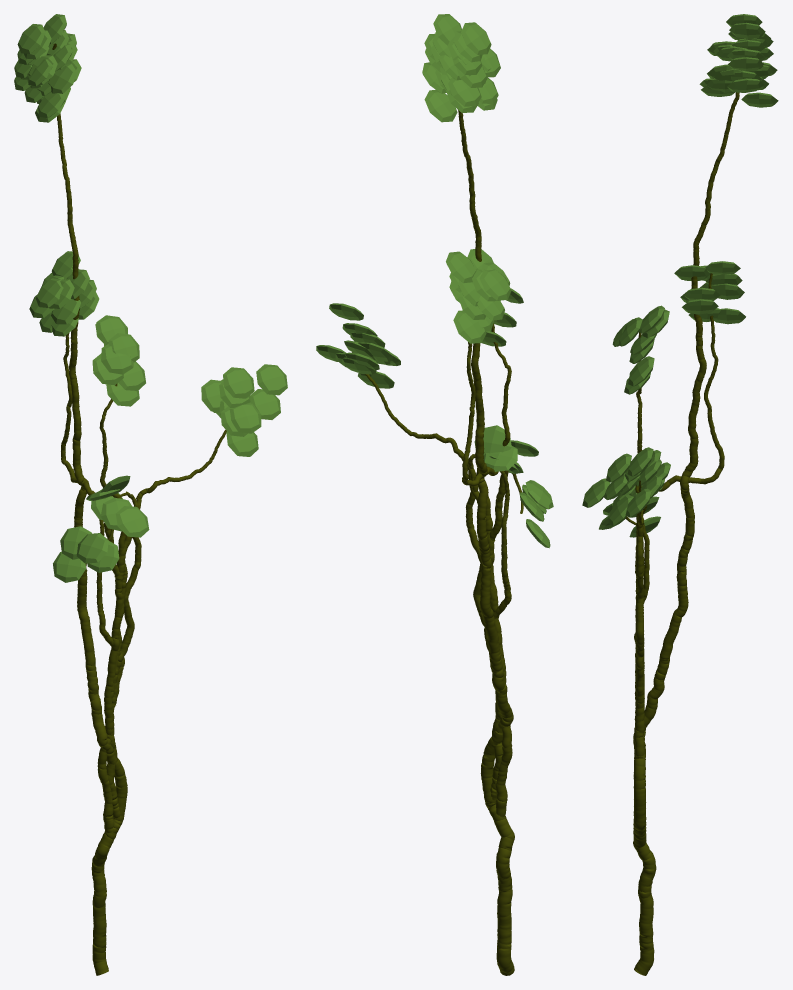
Rendered from Vines.fbx.
3 views of the same model, side by side, from view 1: azimuth 30°, elevation 25°; view 2: azimuth 150°, elevation 25°; view 3: azimuth 270°, elevation 25° (orthographic). The views are drawn at different scales.
Parts seen in each view (by area): view 1: IvyLeaf, IVY_Curve; view 2: IvyLeaf, IVY_Curve; view 3: IvyLeaf, IVY_Curve.
Boxes of the visible parts, <box> form: IvyLeaf: <box>14,14,287,582</box>; IVY_Curve: <box>52,43,226,975</box>; IvyLeaf: <box>316,14,553,548</box>; IVY_Curve: <box>352,110,523,975</box>; IvyLeaf: <box>582,14,778,537</box>; IVY_Curve: <box>625,92,739,975</box>.
Bounding box in the file's own units: 193 × 769 × 143.
